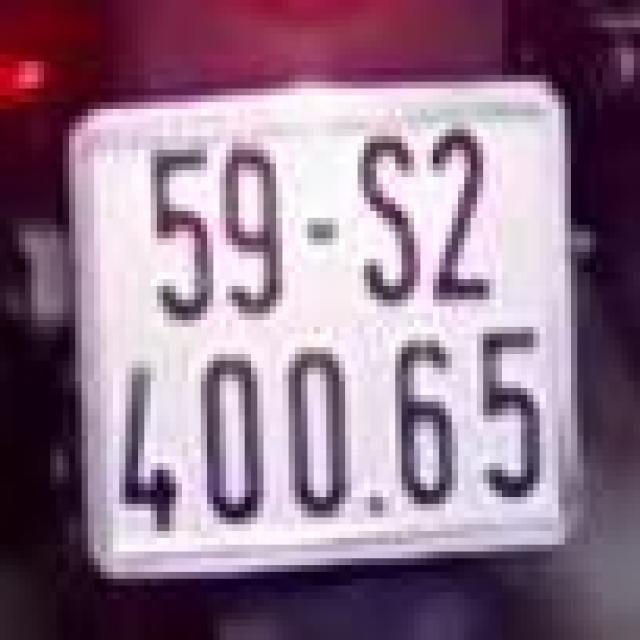0: (188, 344, 270, 534), (282, 330, 352, 535)
2: (424, 92, 505, 317)
4: (104, 344, 185, 548)
5: (470, 320, 546, 524), (141, 133, 217, 323)
6: (386, 323, 467, 521)
9: (216, 123, 292, 320)
S: (338, 109, 426, 306)
